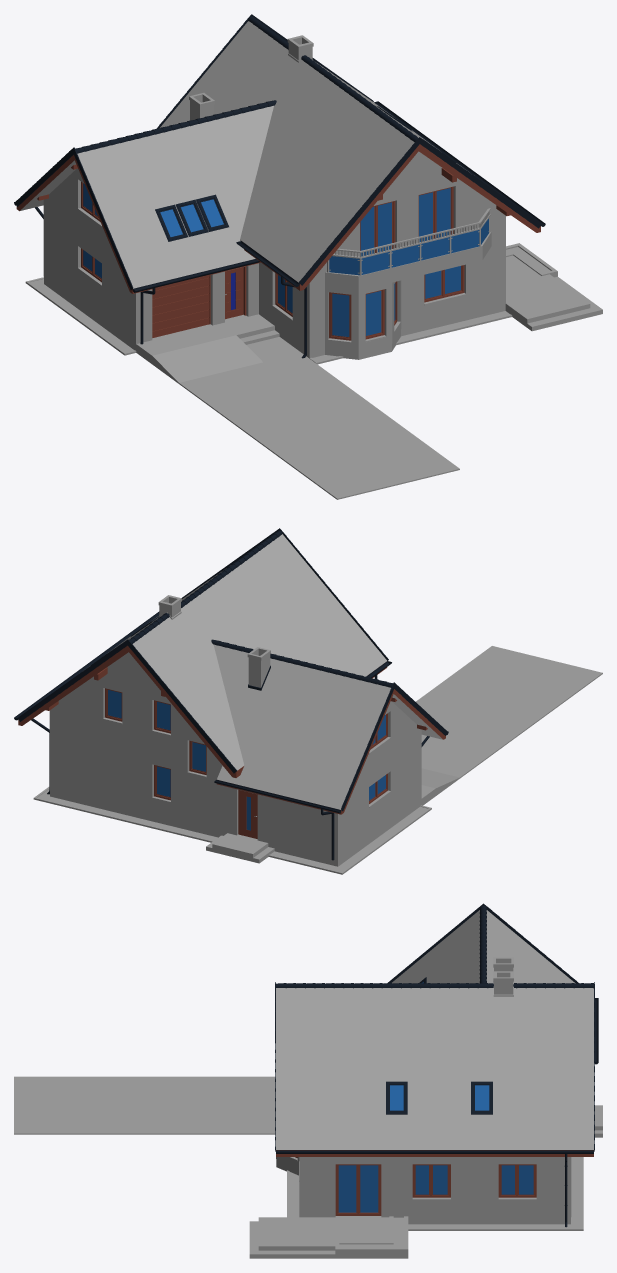
File: house_10.obj
3 renders of one model, top to bottom at view 1: azimuth 30°, elevation 25°; view 2: azimuth 150°, elevation 25°; view 3: azimuth 270°, elevation 25°, orthographic. The views are drawn at different scales.
Visible parts, largest first — view 1: roof, ground_around_house, wall_exterior, roof_001, window_011, terrace, barrels_001, cover_sides_001, door_garage, balcony, cover_roof_001, gutter_001 (+4 smaller); view 2: wall_exterior, roof, roof_001, ground_around_house, cover_sides_001, window_011, cover_roof_001, gutter_001, chimney_002, door_wing_013; view 3: roof, ground_around_house, wall_exterior, roof_001, window_011, terrace, cover_roof_001, flower_pot, gutter_001, window_roof, cover_sides_001, chimney_002.
Part boxes in pixels (box(x1,y1,x2,y2)): roof: box(160, 21, 540, 290); ground_around_house: box(25, 277, 512, 499); wall_exterior: box(43, 151, 505, 359); roof_001: box(16, 105, 273, 293); window_011: box(77, 181, 466, 343); terrace: box(505, 255, 602, 331); barrels_001: box(327, 208, 490, 275); cover_sides_001: box(15, 14, 541, 289); door_garage: box(152, 275, 210, 337); balcony: box(325, 232, 491, 290); cover_roof_001: box(75, 16, 418, 153); gutter_001: box(14, 101, 545, 358); wall_exterior: box(49, 652, 421, 866); roof: box(18, 534, 387, 777); roof_001: box(213, 644, 445, 814); ground_around_house: box(33, 646, 602, 874); cover_sides_001: box(17, 528, 447, 811); window_011: box(103, 688, 390, 807); cover_roof_001: box(129, 530, 392, 687); gutter_001: box(14, 611, 448, 860); chimney_002: box(158, 595, 270, 690); door_wing_013: box(238, 790, 257, 838); roof: box(276, 988, 593, 1156); ground_around_house: box(14, 1076, 602, 1230); wall_exterior: box(276, 1157, 571, 1224); roof_001: box(392, 910, 575, 983); window_011: box(288, 1157, 536, 1215); terrace: box(249, 1216, 389, 1258); cover_roof_001: box(276, 905, 593, 988); flower_pot: box(335, 1216, 408, 1258); gutter_001: box(276, 998, 598, 1227); window_roof: box(386, 977, 492, 1114); cover_sides_001: box(275, 903, 594, 1151); chimney_002: box(493, 957, 513, 996).
Size of what is drawn, in the model's own units: 6.91 by 3.53 by 9.13.
